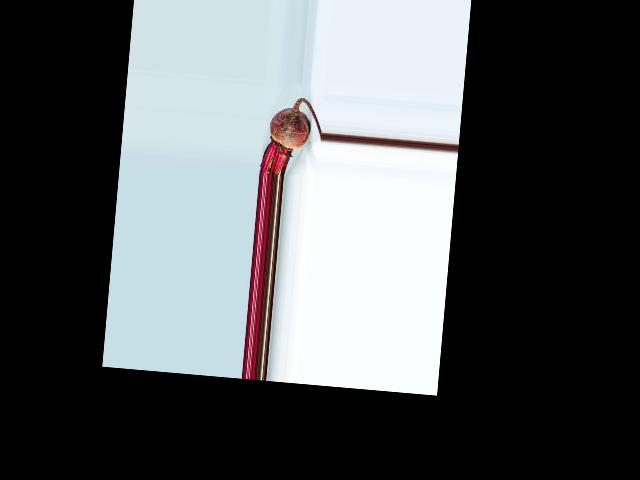beet: (259, 95, 324, 179)
